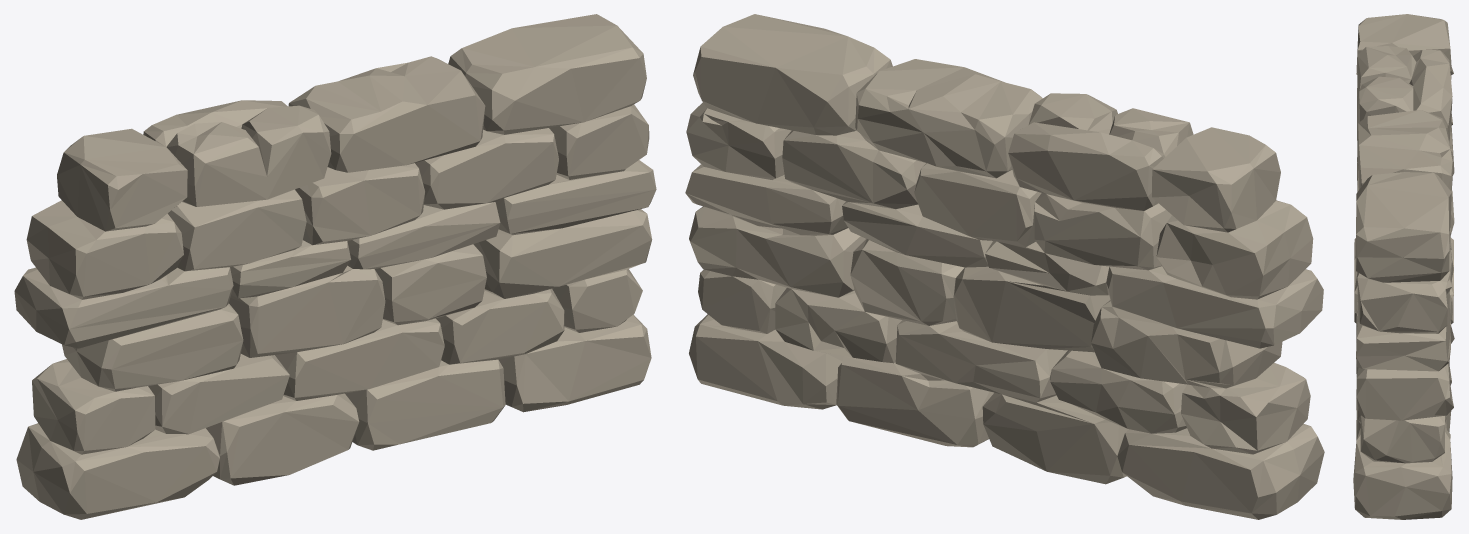
The model's file is StoneWall.fbx.
3 views of the same model, side by side, from view 1: azimuth 30°, elevation 25°; view 2: azimuth 150°, elevation 25°; view 3: azimuth 270°, elevation 25° (orthographic). The views are drawn at different scales.
Parts seen in each view (by area): view 1: StoneWall_LOD0; view 2: StoneWall_LOD0; view 3: StoneWall_LOD0.
Part boxes in pixels (left/top/right/bottom): StoneWall_LOD0: left=14, top=14, right=656, bottom=519; StoneWall_LOD0: left=685, top=14, right=1324, bottom=519; StoneWall_LOD0: left=1353, top=14, right=1454, bottom=519.
Size of what is drawn, in the model's own units: 3.03 by 0.5277 by 1.68.
